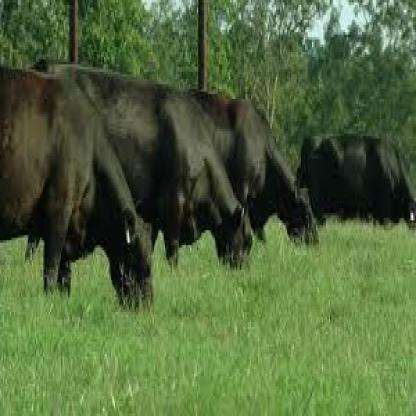cow: (42, 68, 255, 269), (0, 67, 153, 312), (180, 86, 320, 248), (295, 131, 416, 228)
